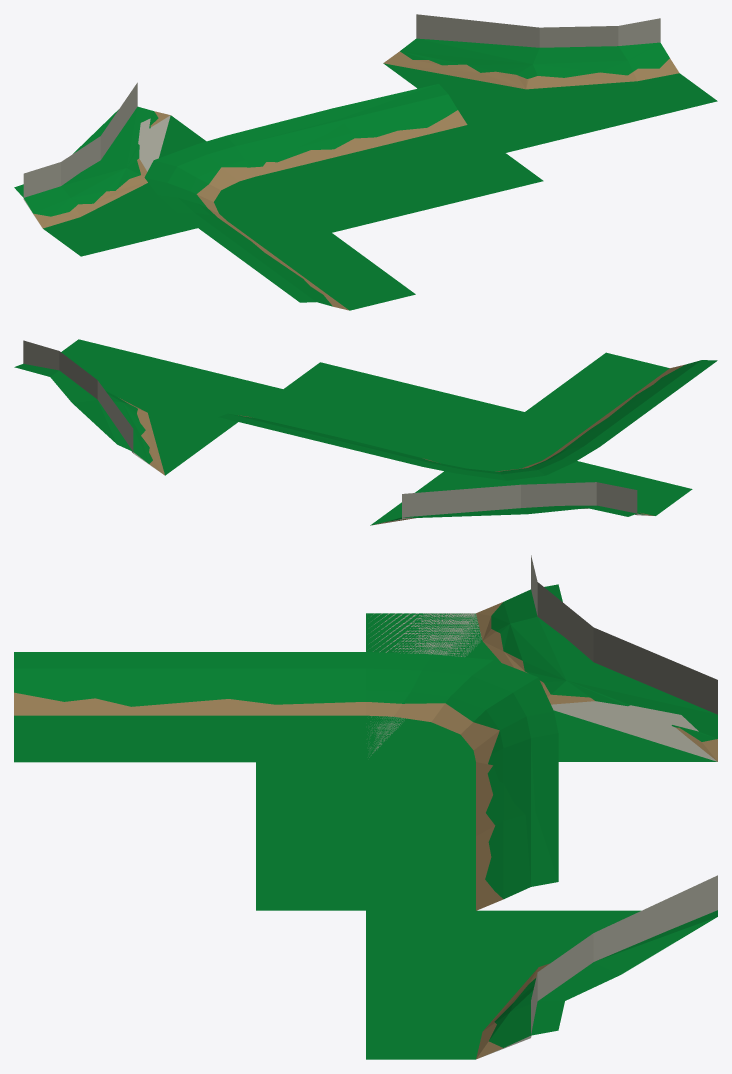
Rendered from Border-Grass.fbx.
3 renders of one model, top to bottom at view 1: azimuth 30°, elevation 25°; view 2: azimuth 150°, elevation 25°; view 3: azimuth 270°, elevation 25°, orthographic. The views are drawn at different scales.
Visible parts, largest first — view 1: Grass-Out, Grass-L, Grass, Grass-Out-Colider, Grass-quad; view 2: Grass-Out, Grass-L, Grass, Grass-Out-Colider, Grass-quad; view 3: Grass-L, Grass-Out, Grass, Grass-Out-Colider, Grass-quad.
Boxes of the visible parts, <box> form: Grass-Out: <box>14,38,717,256</box>; Grass-L: <box>144,84,467,310</box>; Grass: <box>227,84,504,204</box>; Grass-Out-Colider: <box>23,14,660,220</box>; Grass-quad: <box>293,153,543,232</box>; Grass-Out: <box>14,339,692,525</box>; Grass-L: <box>219,352,717,480</box>; Grass: <box>223,389,487,466</box>; Grass-Out-Colider: <box>23,340,651,524</box>; Grass-quad: <box>283,362,524,438</box>; Grass-L: <box>14,652,558,910</box>; Grass-Out: <box>366,584,717,1059</box>; Grass: <box>366,733,558,910</box>; Grass-Out-Colider: <box>369,555,717,1057</box>; Grass-quad: <box>256,762,365,910</box>.
Size of what is drawn, in the model's own units: 192 by 11.9 by 128.
